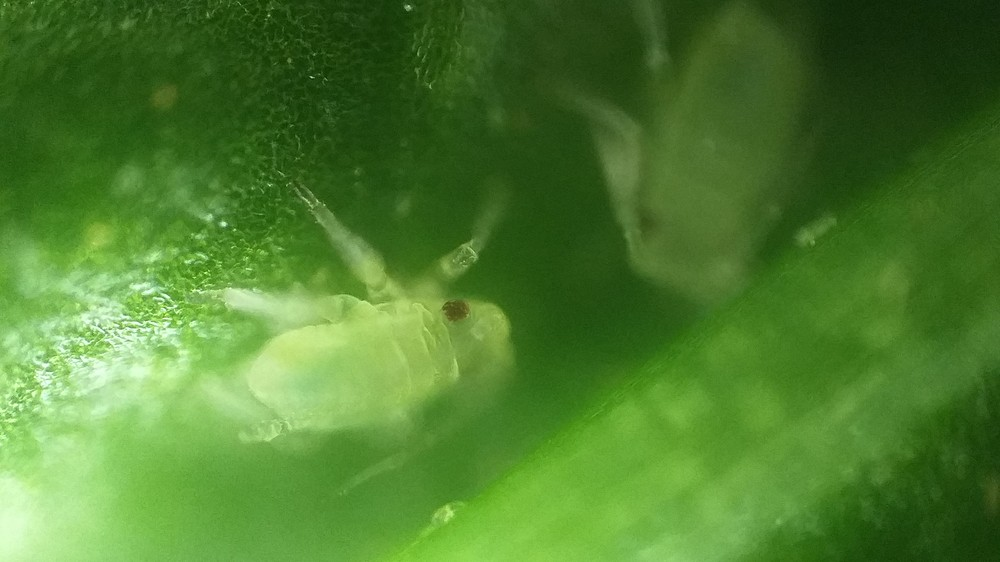Pulgon: (190, 177, 576, 475), (554, 1, 866, 322)
